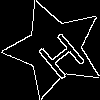H: (29, 24, 88, 82)
